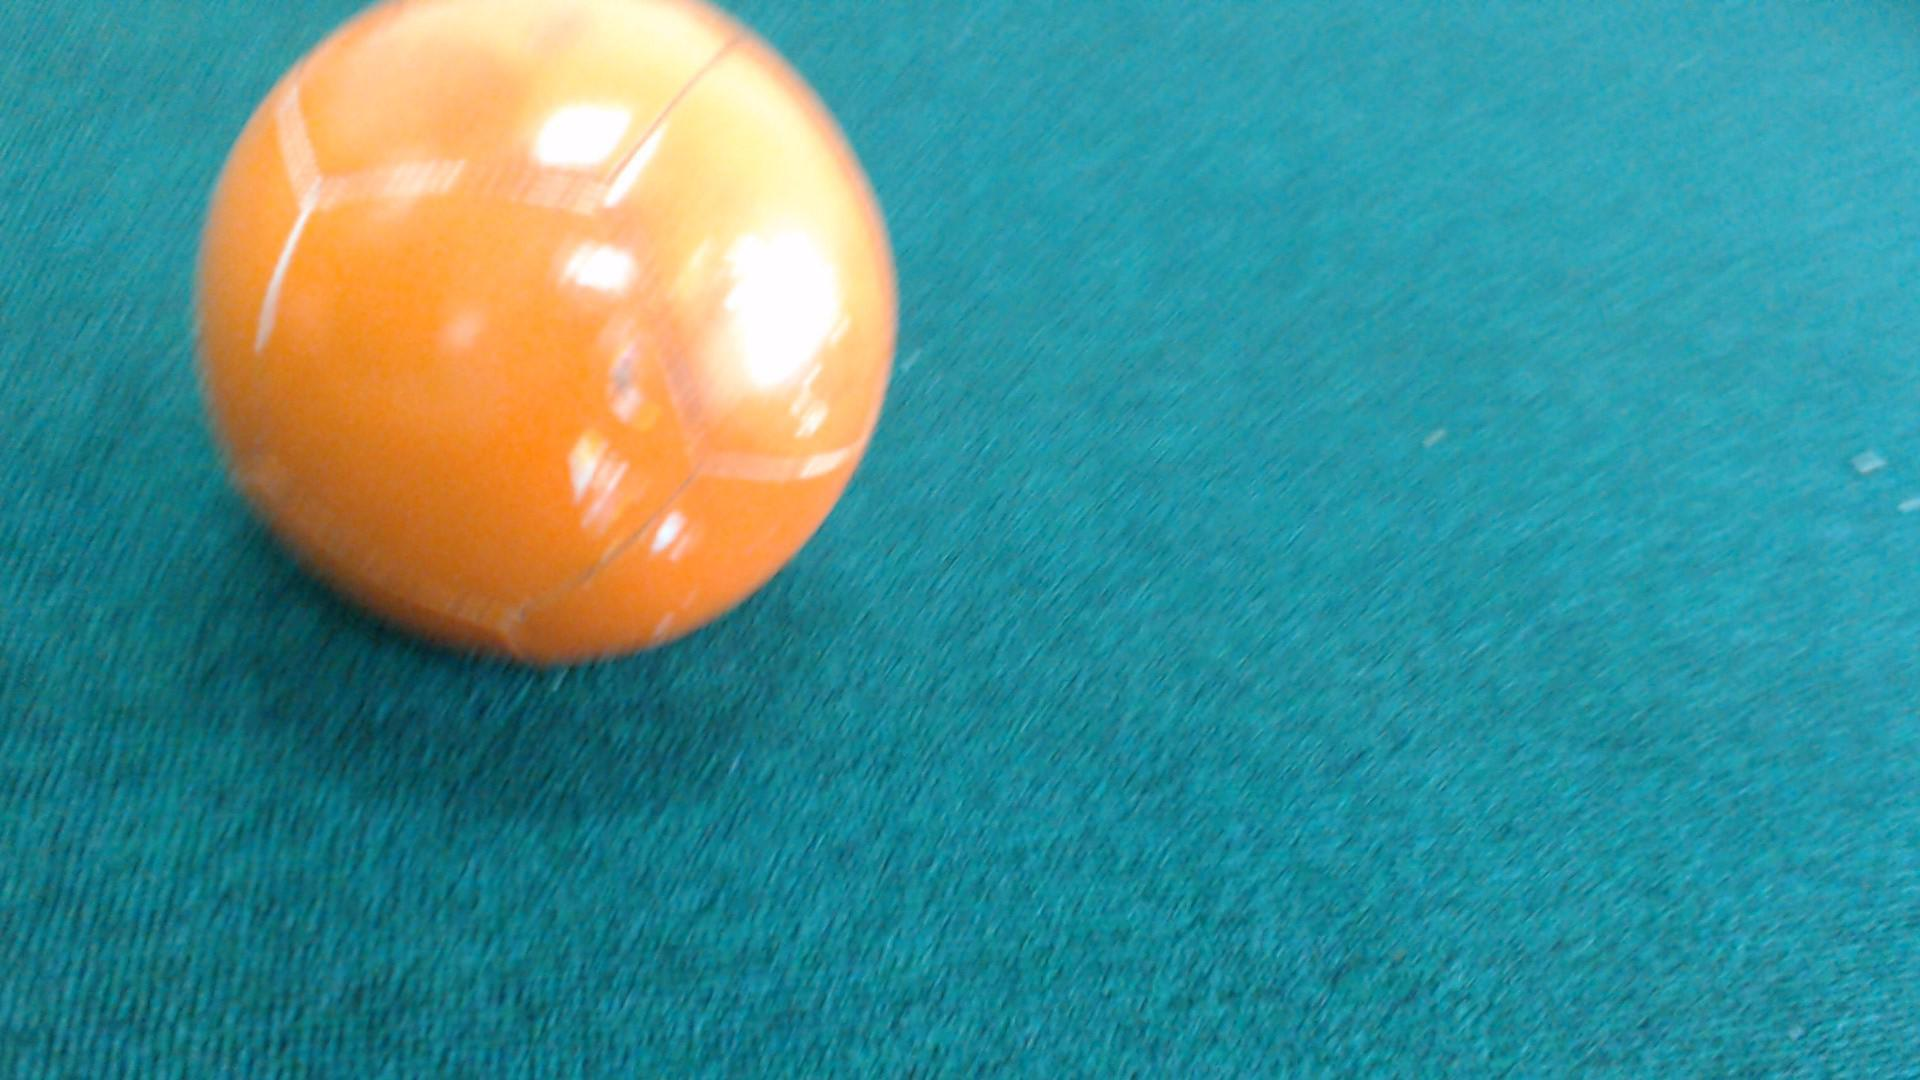bola: (146, 0, 943, 702)
